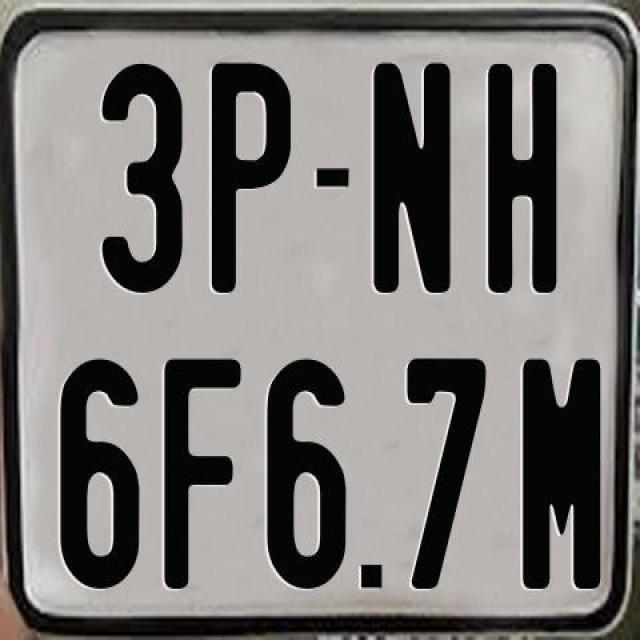3: (101, 59, 186, 291)
6: (57, 358, 143, 592), (262, 357, 342, 592)
7: (406, 355, 489, 595)
F: (164, 354, 248, 588)
H: (486, 64, 556, 298)
M: (522, 358, 606, 590)
N: (371, 59, 448, 293)
P: (210, 58, 292, 292)
